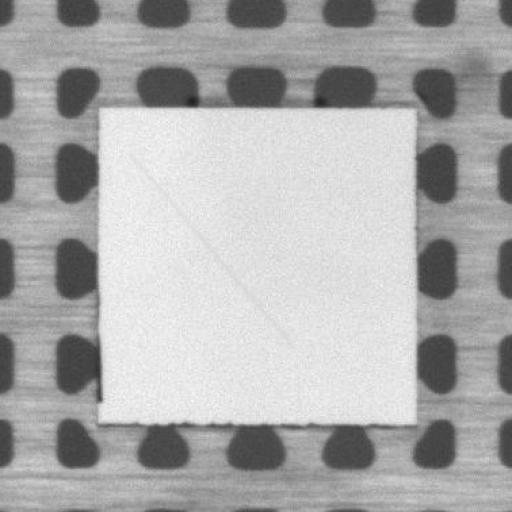DIE_CRACK: (130, 154, 292, 347)
